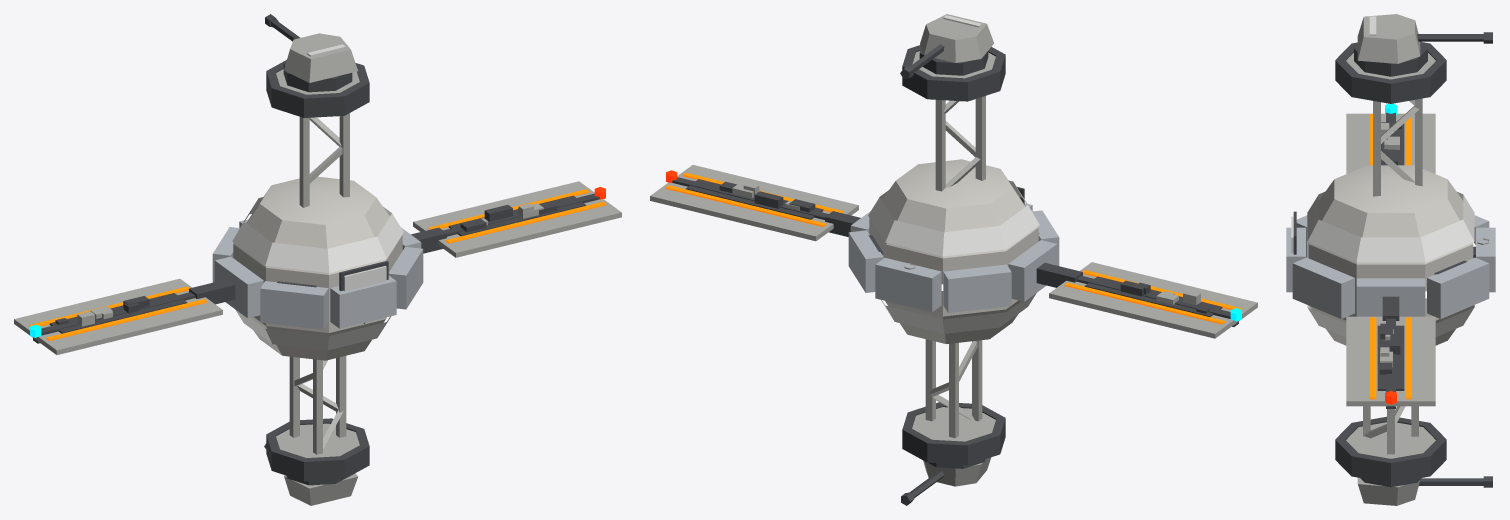
File: platform_light.glb
3 views of the same model, side by side, from view 1: azimuth 30°, elevation 25°; view 2: azimuth 150°, elevation 25°; view 3: azimuth 270°, elevation 25° (orthographic). The views are drawn at different scales.
Parts seen in each view (by area): view 1: platform_light, Turret_0, Turret_1; view 2: platform_light, Turret_0, Turret_1; view 3: platform_light, Turret_0, Turret_1.
Boxes of the visible parts, <box> form: platform_light: <box>14,60,621,481</box>; Turret_0: <box>265,14,357,92</box>; Turret_1: <box>264,443,357,505</box>; platform_light: <box>650,45,1257,464</box>; Turret_0: <box>900,14,993,78</box>; Turret_1: <box>901,457,991,505</box>; platform_light: <box>1286,42,1495,483</box>; Turret_0: <box>1354,14,1492,76</box>; Turret_1: <box>1357,476,1492,505</box>.
Bounding box in the file's own units: 2 × 1.49 × 0.6028.
